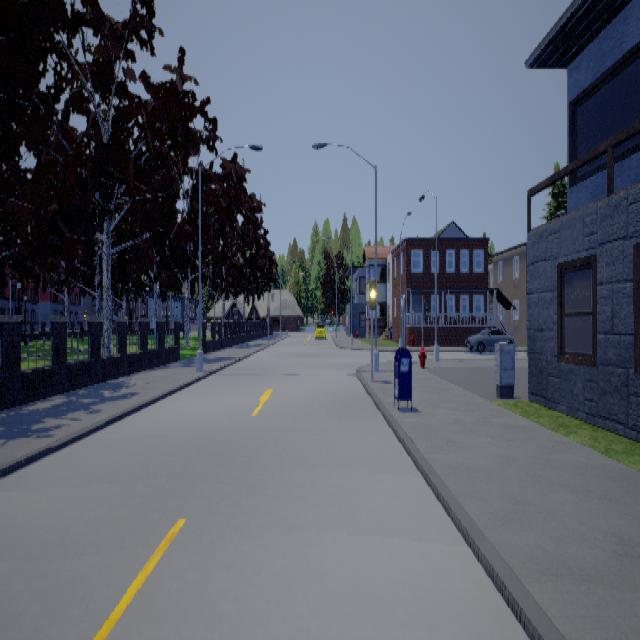vehicle: (464, 327, 514, 352), (312, 320, 325, 339)
yellow_light: (368, 271, 375, 315)
